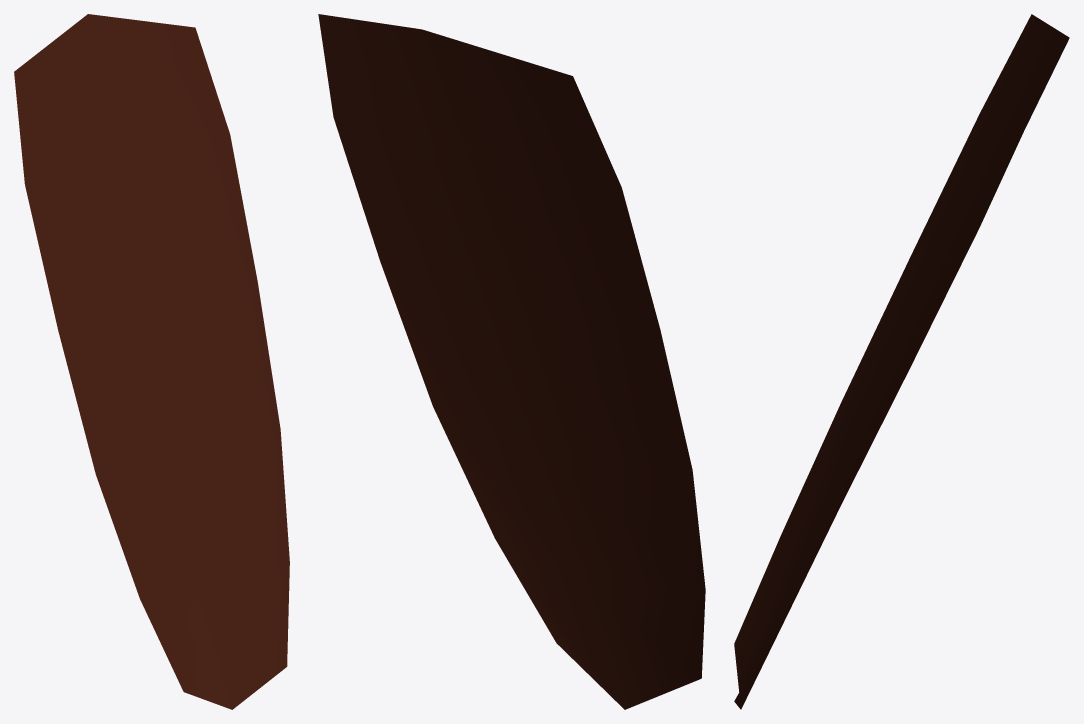
Rendered from hen_feather_tail_secondary_014.obj.
3 views of the same model, side by side, from view 1: azimuth 30°, elevation 25°; view 2: azimuth 150°, elevation 25°; view 3: azimuth 270°, elevation 25° (orthographic). The views are drawn at different scales.
Visible parts, largest first — view 1: feather_tail_secondary_014; view 2: feather_tail_secondary_014; view 3: feather_tail_secondary_014.
Boxes of the visible parts, left/top/right/bottom form: feather_tail_secondary_014: left=14, top=14, right=289, bottom=709; feather_tail_secondary_014: left=318, top=14, right=705, bottom=709; feather_tail_secondary_014: left=734, top=14, right=1069, bottom=709.
Size of the model in its own units: 0.0282 by 0.0774 by 0.035.
